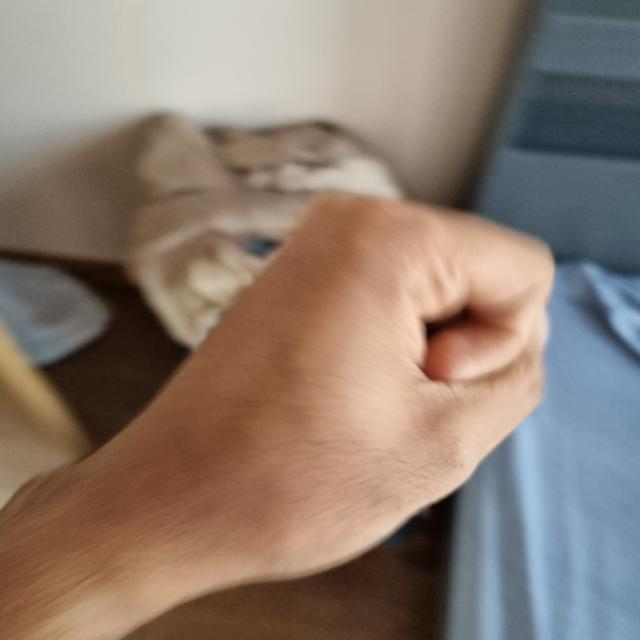Rock: (103, 125, 554, 576)
